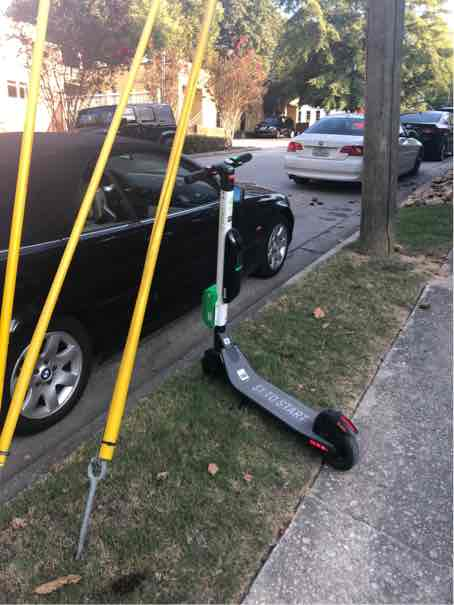scooter: (185, 147, 358, 470)
